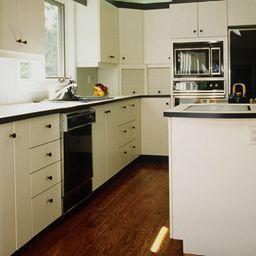Electrodomestico: (62, 109, 94, 205)
